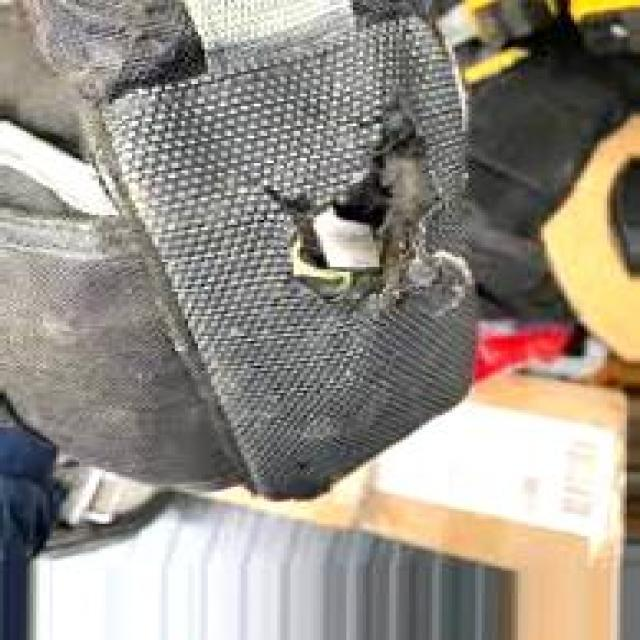Damage-bag: (265, 110, 471, 306)
